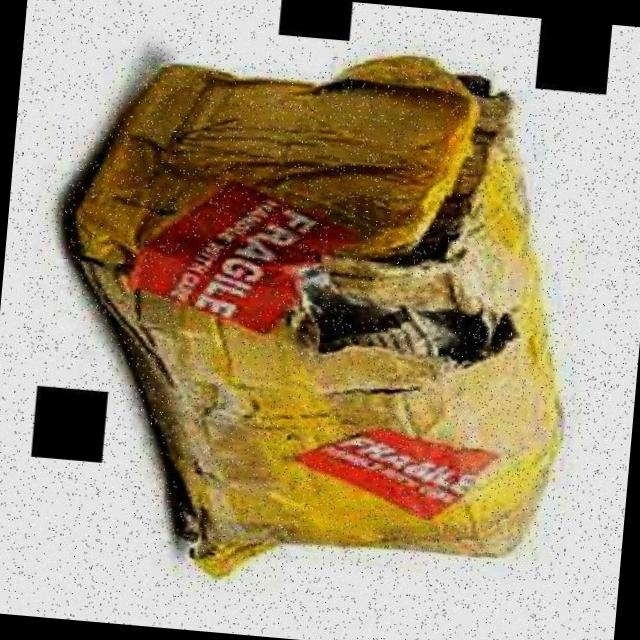box: (30, 26, 602, 611)
